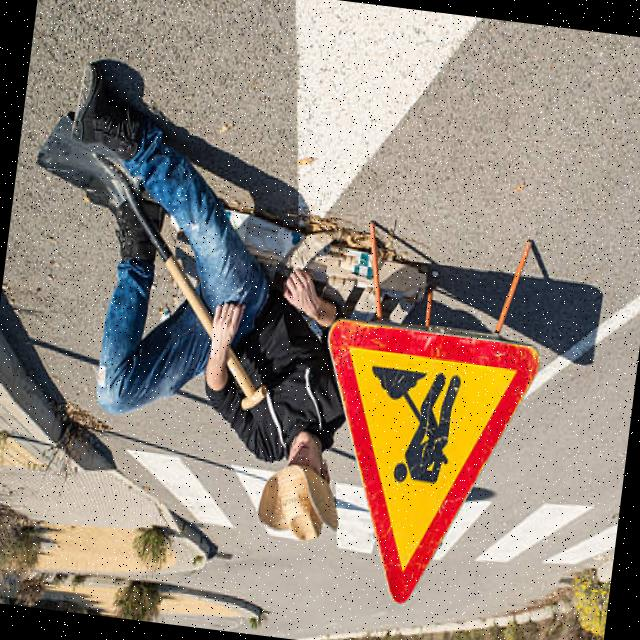road_work: (301, 316, 545, 626)
